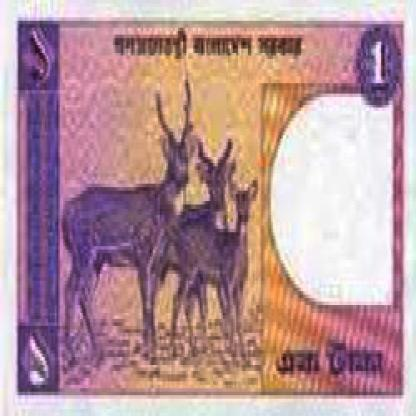One Taka: (275, 340, 386, 378), (18, 24, 57, 90), (18, 326, 57, 388), (369, 35, 391, 94)
